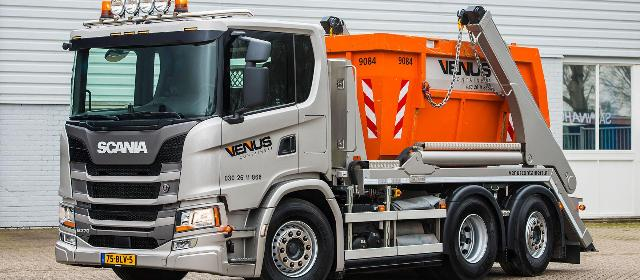truck: (36, 10, 600, 280)
